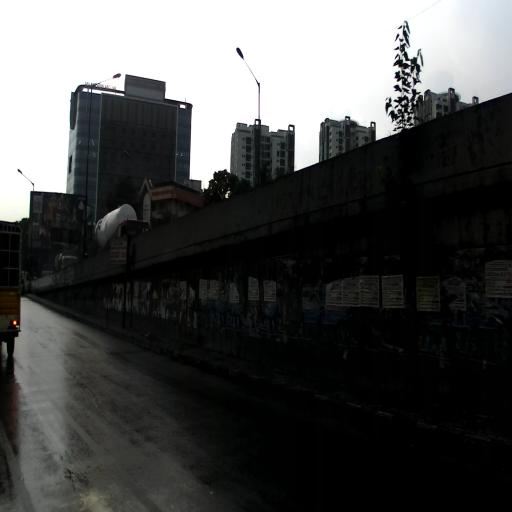street_light_0: (236, 47, 260, 92), (91, 73, 121, 91), (18, 169, 34, 187)
